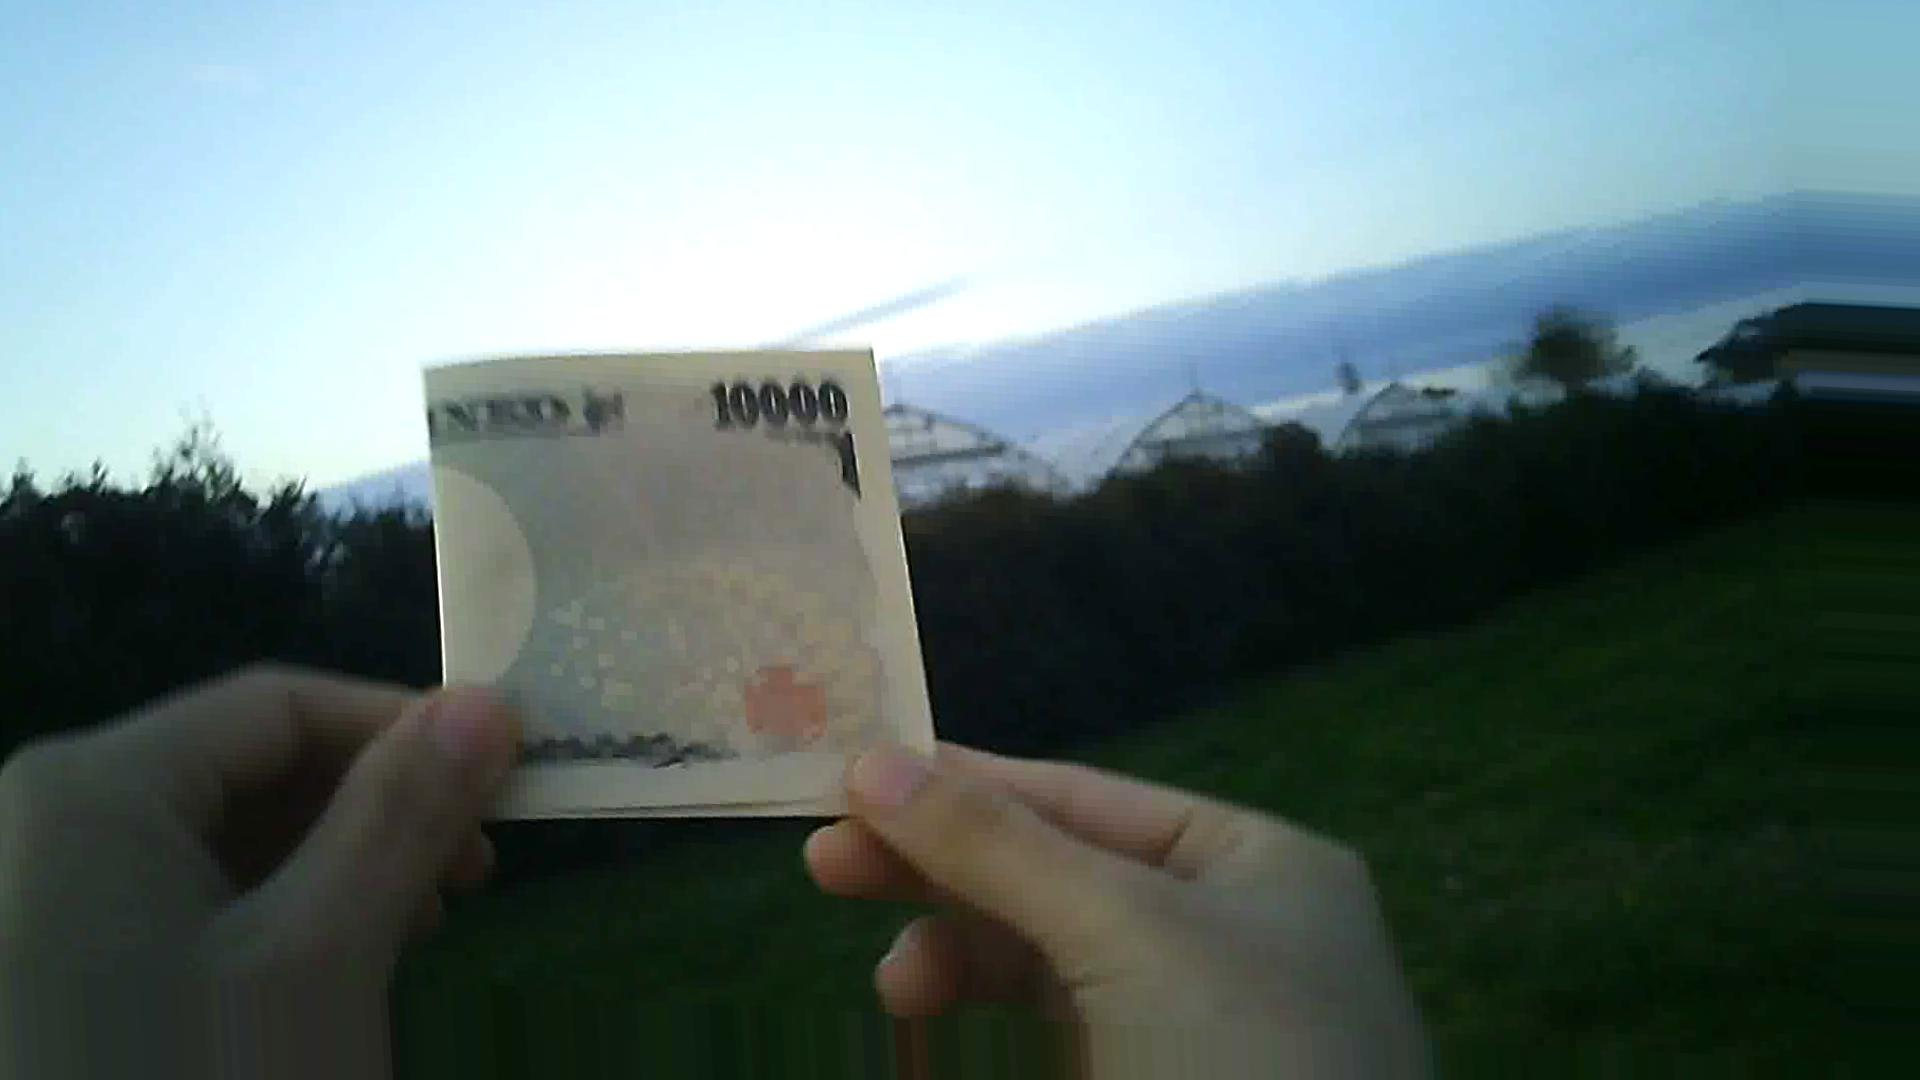10,000 Yen: (409, 324, 982, 849)
